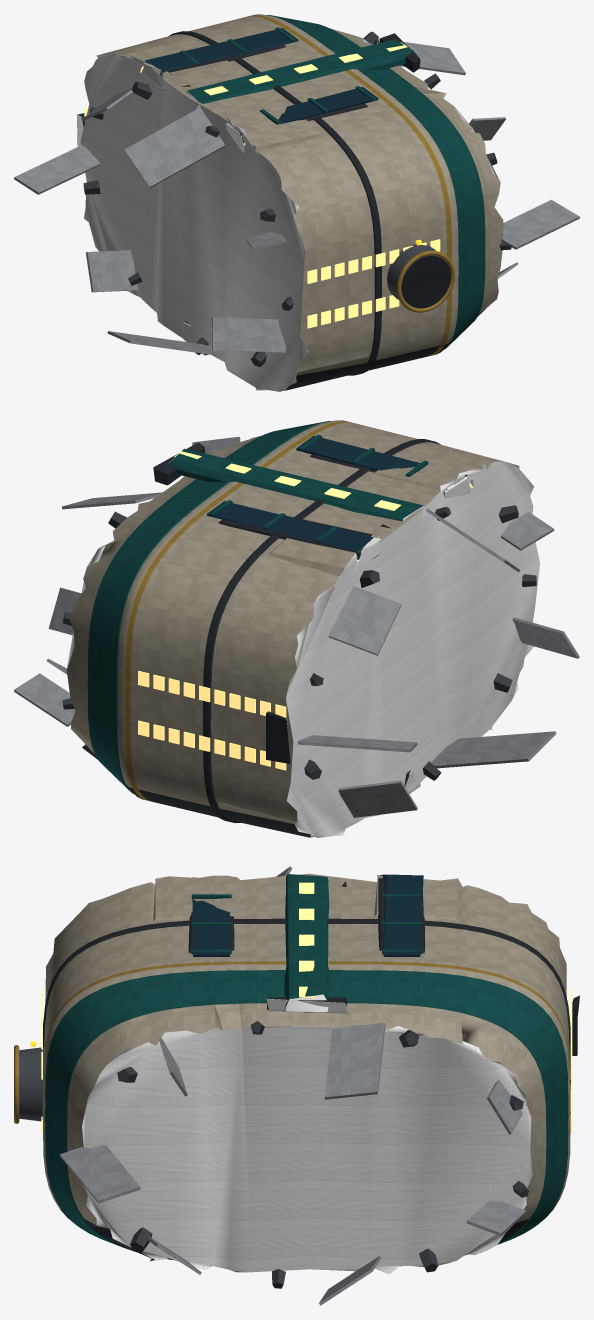
The model's file is wreck_liner_boatbay.glb.
The picture shows the model from 3 angles, top to bottom: view 1: azimuth 30°, elevation 25°; view 2: azimuth 150°, elevation 25°; view 3: azimuth 270°, elevation 25°; orthographic projection. The views are drawn at different scales.
Visible parts, largest first — view 1: Drum, bayA_t_tear2, Spine, DockCollar, bayA_t_tear0, GalleryGlass3.1, bayB_t_tear1, bayA_t_tear4, bayA_t_tear5, GalleryGlass-3.1, bayB_t_tear6, bayA_t_tear6 (+5 smaller); view 2: Drum, Spine, bayA_t_tear3, bayA_t_tear6, GalleryGlass3.1, bayA_t_tear5, GalleryGlass-3.1, bayB_t_tear4, bayA_t_tear0, bayA_t_tear4, bayA_t_tear1, ServiceHatch (+5 smaller); view 3: Drum, Spine, bayB_t_tear6, GalleryGlass3.1, bayB_t_tear1, DockCollar, GalleryGlass-3.1, bayB_t_tear4, bayB_t_tear5, SpineSaddle5, bayB_t_tear3, Gallery3.1.
Boxes of the visible parts, bbox=[...] form: Drum: bbox=[80, 14, 503, 391]; bayA_t_tear2: bbox=[124, 107, 224, 187]; Spine: bbox=[185, 39, 417, 109]; DockCollar: bbox=[387, 244, 450, 308]; bayA_t_tear0: bbox=[212, 317, 285, 352]; GalleryGlass3.1: bbox=[144, 28, 298, 75]; bayB_t_tear1: bbox=[501, 199, 579, 249]; bayA_t_tear4: bbox=[14, 145, 100, 194]; bayA_t_tear5: bbox=[85, 250, 137, 292]; GalleryGlass-3.1: bbox=[226, 87, 378, 135]; bayB_t_tear6: bbox=[376, 38, 465, 75]; bayA_t_tear6: bbox=[107, 331, 226, 356]; Drum: bbox=[66, 420, 539, 837]; Spine: bbox=[168, 448, 427, 521]; bayA_t_tear3: bbox=[328, 586, 401, 655]; bayA_t_tear6: bbox=[431, 731, 556, 768]; GalleryGlass3.1: bbox=[207, 501, 381, 552]; bayA_t_tear5: bbox=[338, 780, 417, 817]; GalleryGlass-3.1: bbox=[296, 435, 467, 489]; bayB_t_tear4: bbox=[14, 673, 75, 726]; bayA_t_tear0: bbox=[512, 617, 579, 658]; bayA_t_tear4: bbox=[297, 735, 417, 752]; bayA_t_tear1: bbox=[501, 511, 554, 550]; ServiceHatch: bbox=[266, 711, 290, 763]; Drum: bbox=[42, 873, 570, 1274]; Spine: bbox=[284, 874, 329, 1012]; bayB_t_tear6: bbox=[324, 1022, 385, 1099]; GalleryGlass3.1: bbox=[380, 874, 423, 956]; bayB_t_tear1: bbox=[60, 1145, 140, 1203]; DockCollar: bbox=[19, 1047, 44, 1121]; GalleryGlass-3.1: bbox=[192, 877, 229, 956]; bayB_t_tear4: bbox=[466, 1200, 526, 1235]; bayB_t_tear5: bbox=[486, 1079, 523, 1134]; SpineSaddle5: bbox=[266, 997, 348, 1013]; bayB_t_tear3: bbox=[319, 1256, 381, 1305]; Gallery3.1: bbox=[378, 878, 425, 953].
Bounding box in the file's own units: 52.67 × 32.62 × 53.98.
12 materials, 9 textured.
